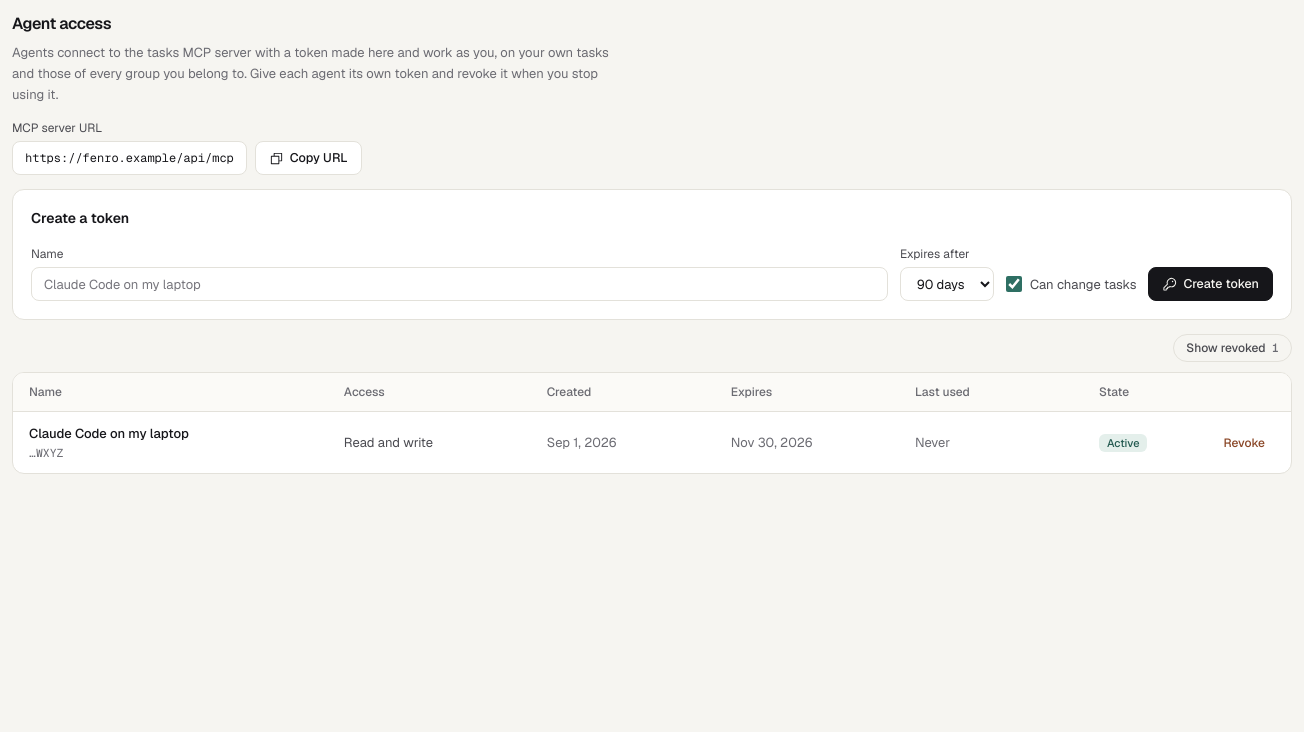
it: AgentAccess › lists tokens by name and hint, never by secret, with a way to revoke
Click the button "Show revoked 1" at (1233, 348), box [1173,334,1292,362]
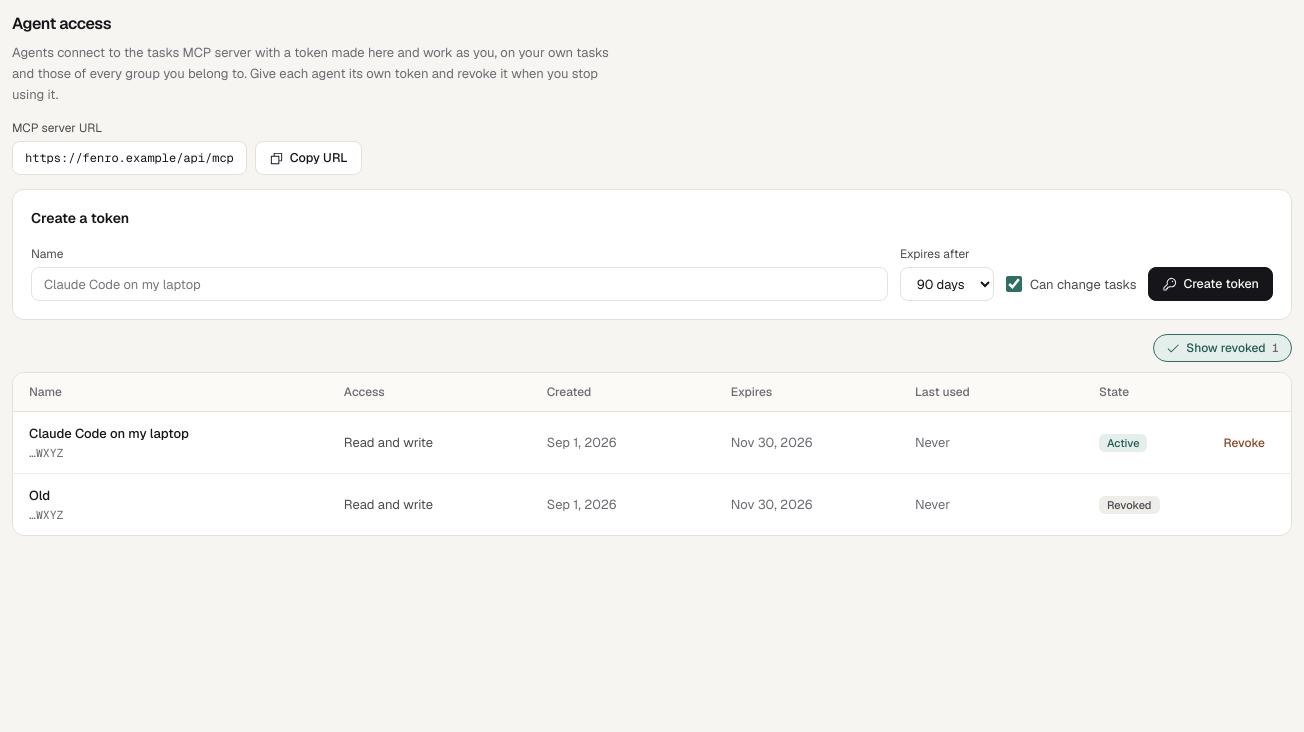
Expected: the button with aria-label "Revoke Claude Code on my laptop" is shown, [1214,428,1275,458]
Expected: the text "…WXYZ" is shown 2 times, [29,445,64,460]; [29,507,64,522]
